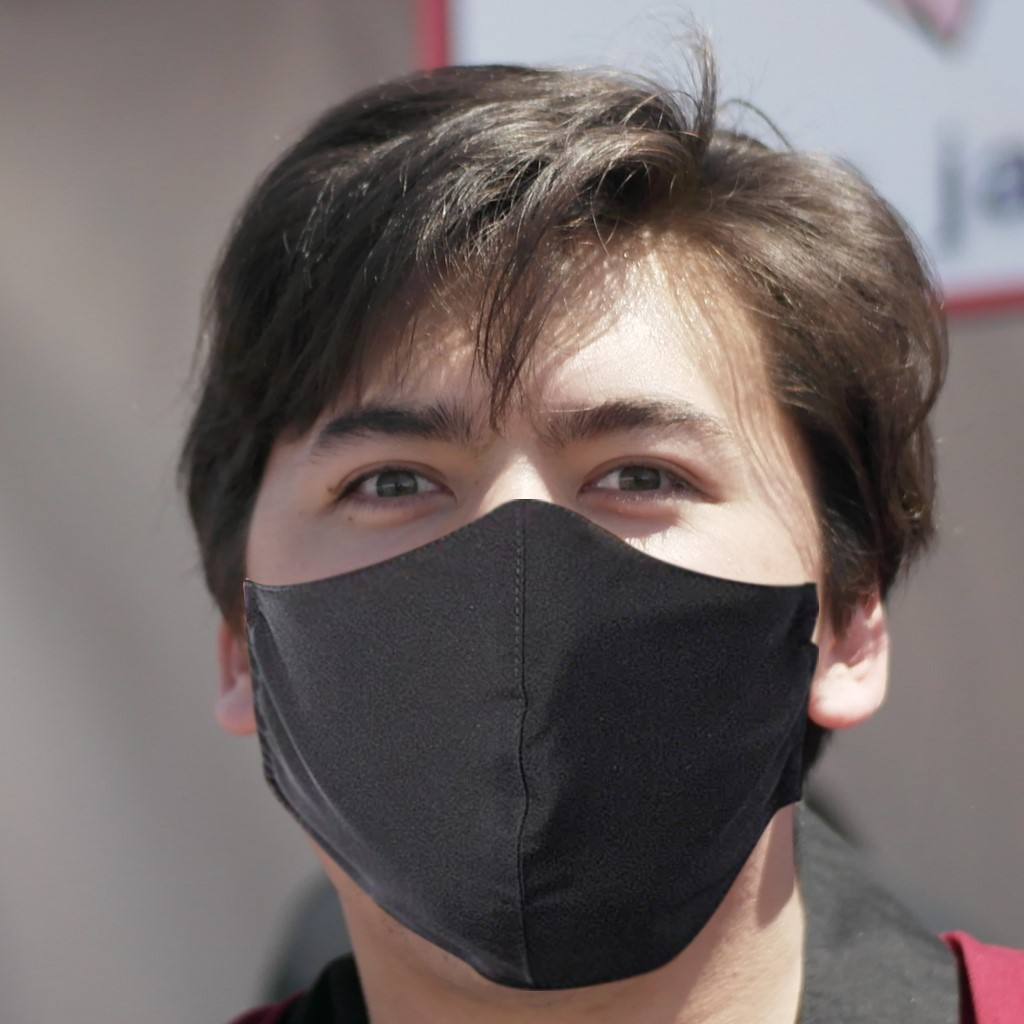con_mascara: (256, 230, 868, 964)
